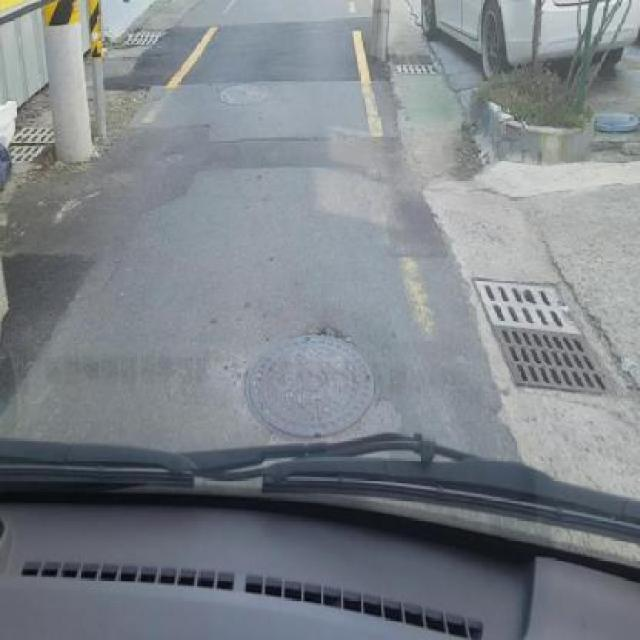Manhole: (242, 323, 382, 443), (486, 324, 616, 396), (477, 276, 575, 330), (392, 52, 450, 82), (5, 147, 50, 167), (124, 27, 164, 49), (11, 124, 59, 142)
